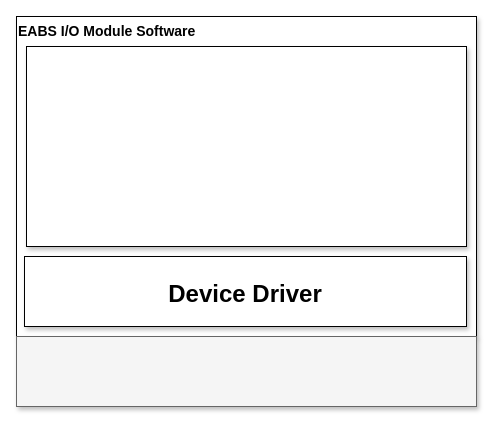
Image size: 493x423. Some labels were removed from this diagram. The centre of each missing label's shape, as x and y in pixels:
EABS I/O Module Application: (x=247, y=148)
H/W: (x=247, y=373)
